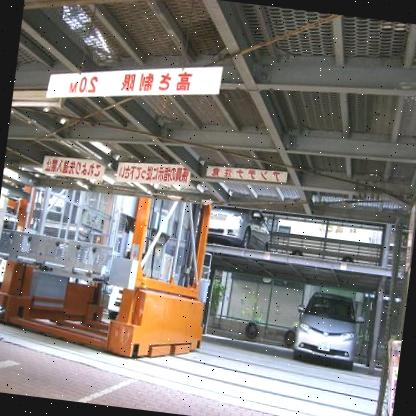car: (284, 281, 368, 372)
